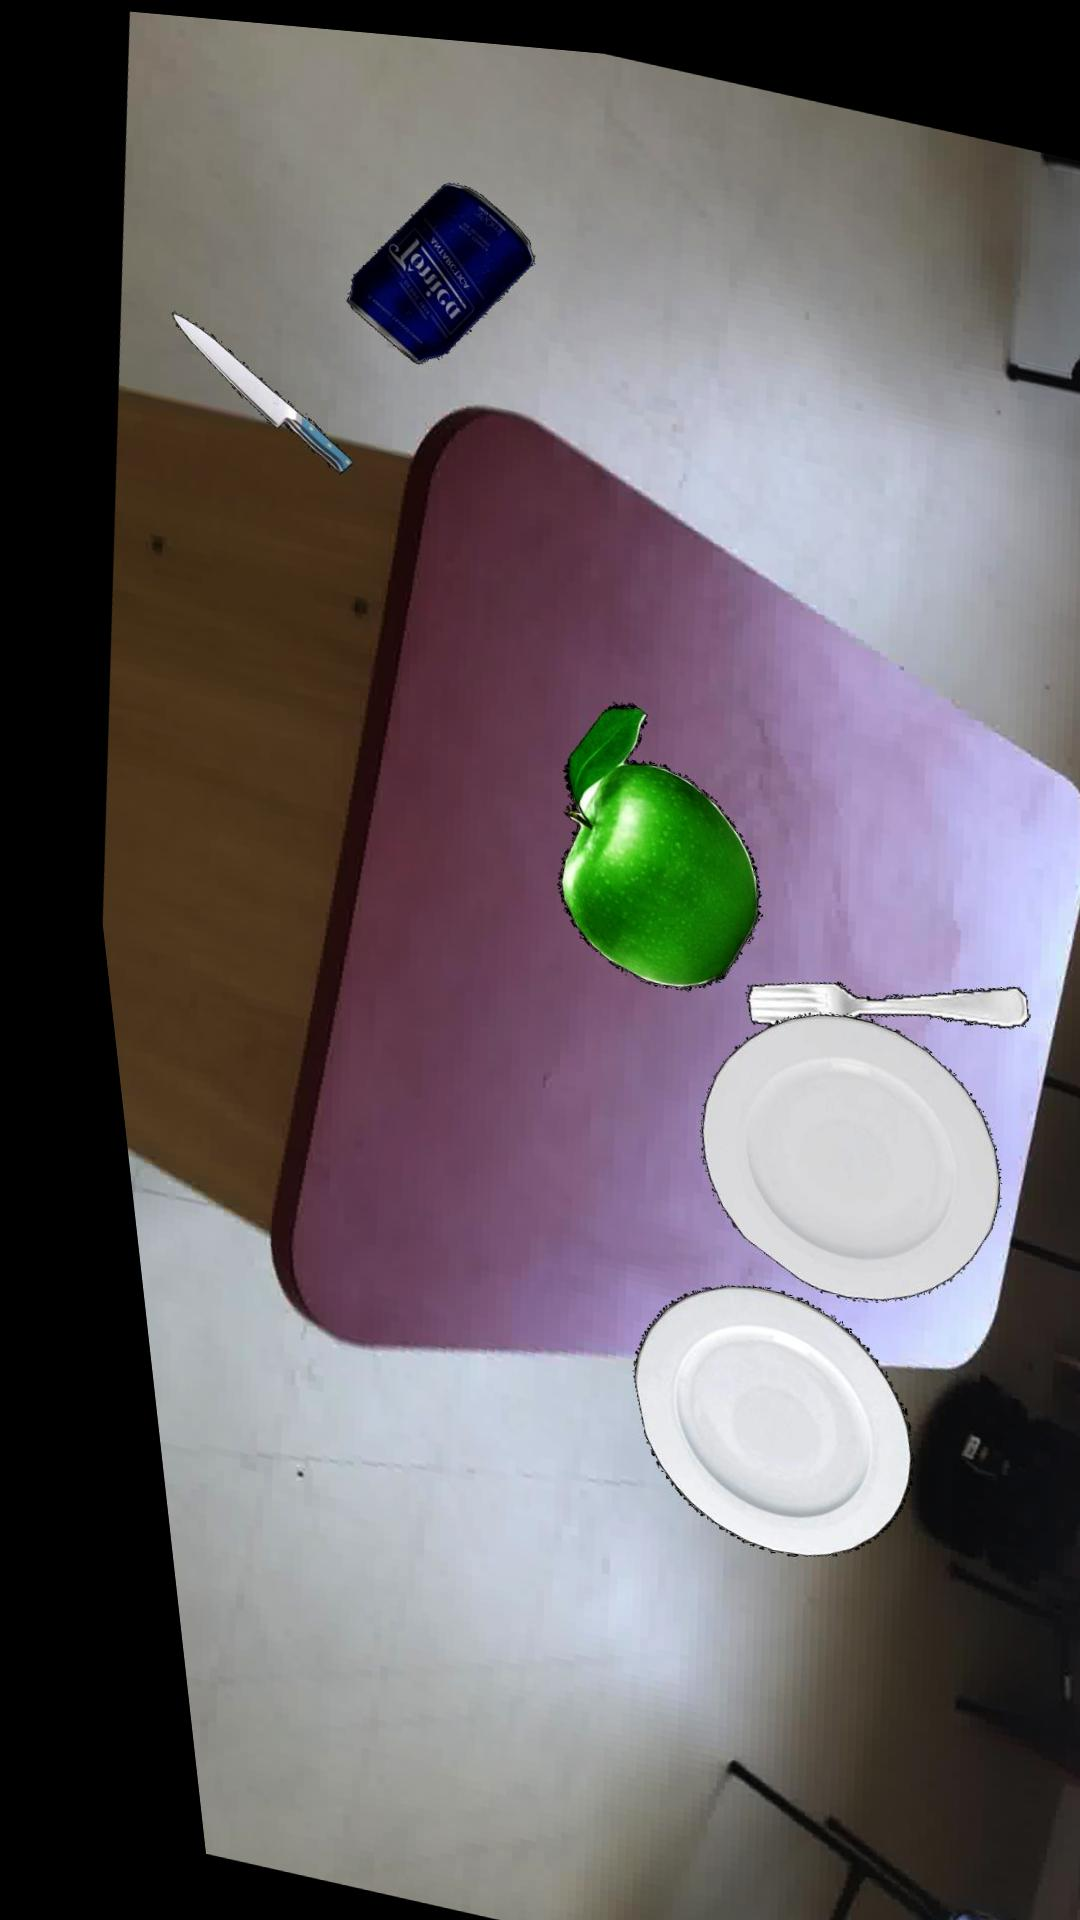fork: (724, 965, 1006, 1011)
green apple: (535, 691, 740, 977)
knife: (164, 309, 342, 467)
plate: (675, 998, 973, 1284), (601, 1271, 877, 1543)
tonic: (339, 173, 527, 355)
